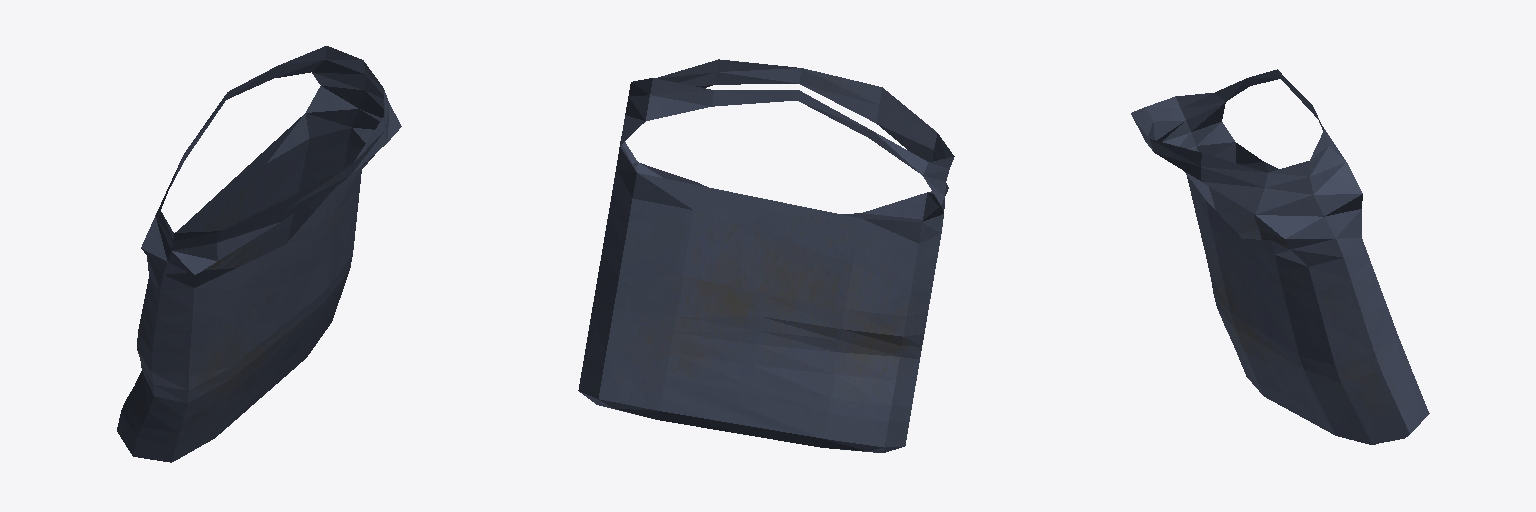
3 views of the same model, side by side, from view 1: azimuth 30°, elevation 25°; view 2: azimuth 150°, elevation 25°; view 3: azimuth 270°, elevation 25° (orthographic).
Visible parts, largest first — view 1: 000_defaultMaterial; view 2: 000_defaultMaterial; view 3: 000_defaultMaterial.
Boxes of the visible parts, x1,y1,x2,y2 form: 000_defaultMaterial: [117, 46, 401, 462]; 000_defaultMaterial: [578, 59, 954, 452]; 000_defaultMaterial: [1131, 69, 1429, 444].
Bounding box in the file's own units: 85.7 × 97.84 × 77.06.
Materials: 1 (1 with a texture image).